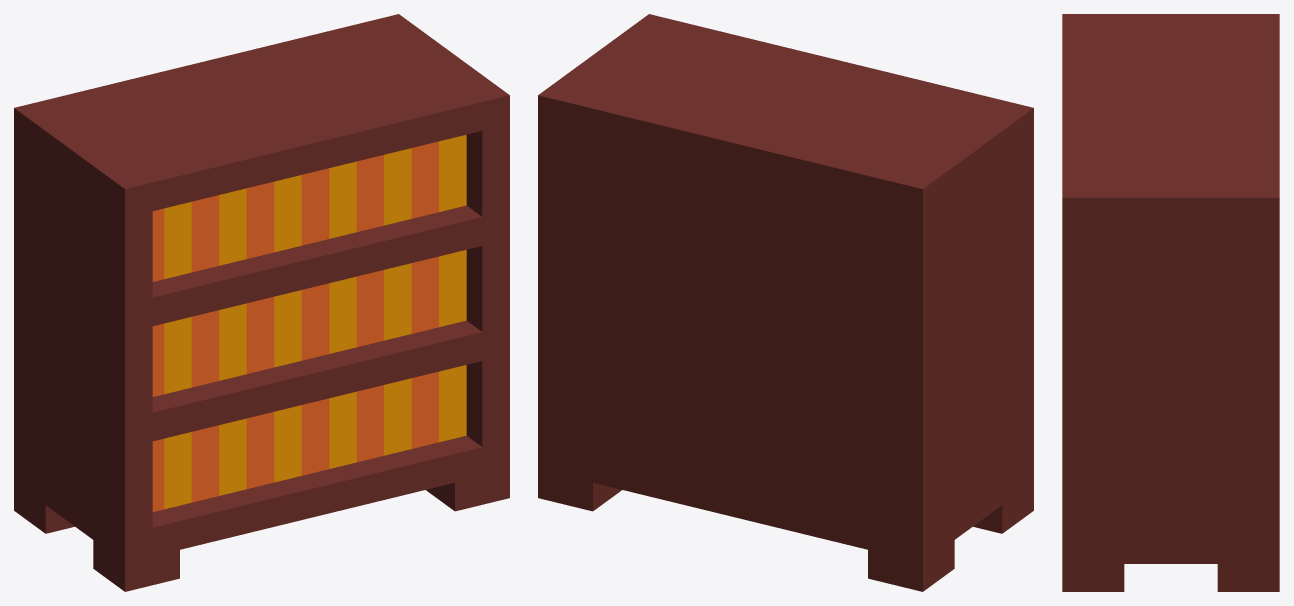
File: large_bookcase_b_yellow.obj
The picture shows the model from 3 angles, left to right: view 1: azimuth 30°, elevation 25°; view 2: azimuth 150°, elevation 25°; view 3: azimuth 270°, elevation 25°; orthographic projection. The views are drawn at different scales.
Bounding box in the file's own units: 1.4 × 1.4 × 0.7.
1 material, 1 textured.
